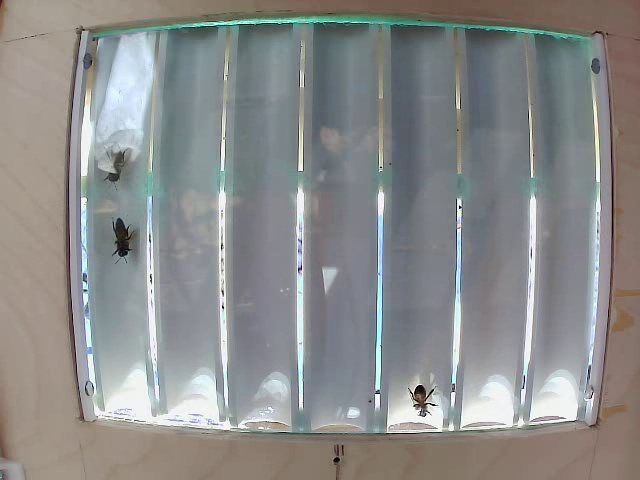bee: (111, 213, 154, 277), (95, 140, 136, 197), (408, 381, 436, 416)
